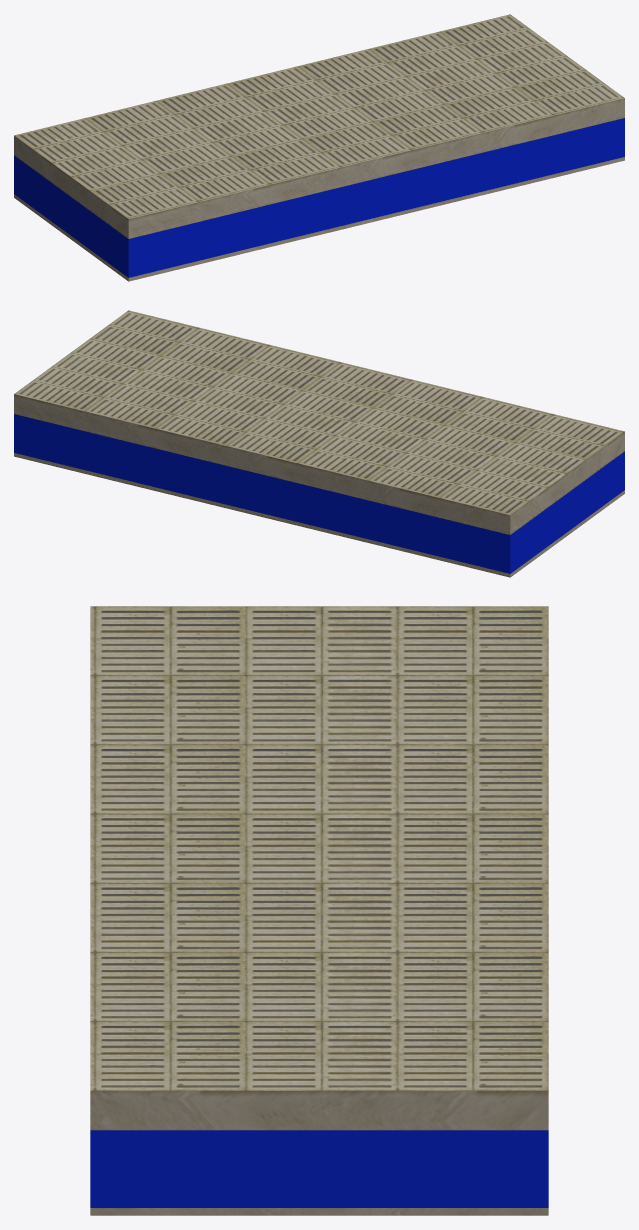
Rendered from platform.fbx.
3 views of the same model, one above another, from view 1: azimuth 30°, elevation 25°; view 2: azimuth 150°, elevation 25°; view 3: azimuth 270°, elevation 25° (orthographic). The views are drawn at different scales.
Parts seen in each view (by area): view 1: Cube; view 2: Cube; view 3: Cube.
Boxes of the visible parts, bbox=[...] form: Cube: bbox=[14, 14, 624, 281]; Cube: bbox=[14, 310, 624, 577]; Cube: bbox=[90, 606, 548, 1215].
Bounding box in the file's own units: 5000 × 600 × 2000.
